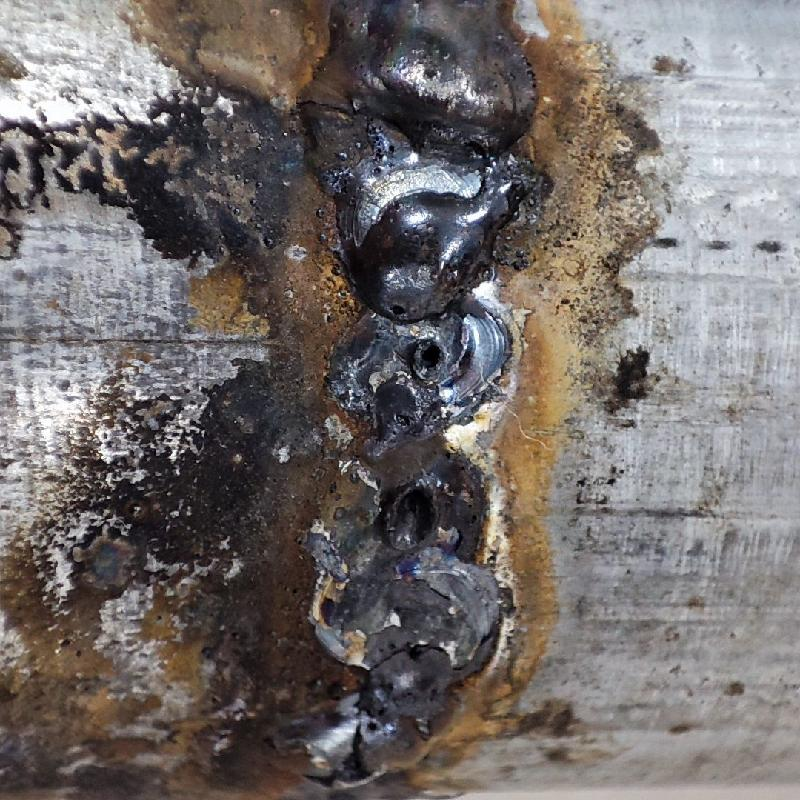Weld: (295, 1, 548, 321)
